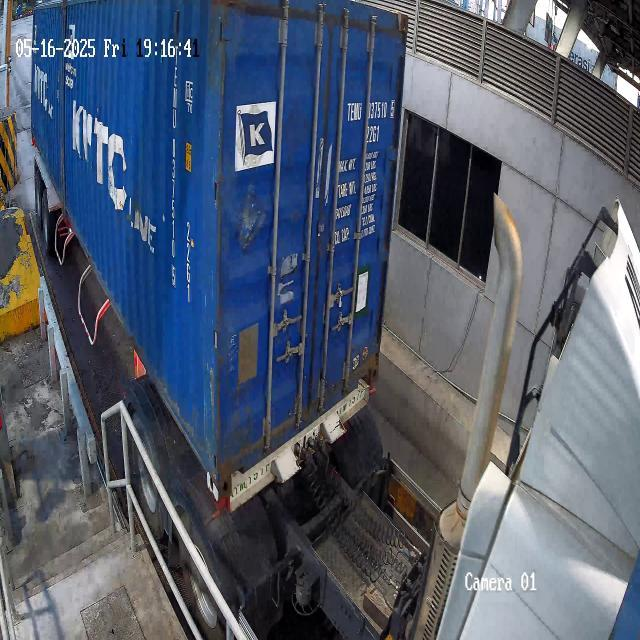ISO: (181, 222, 198, 302)
container_number: (170, 27, 178, 295)
